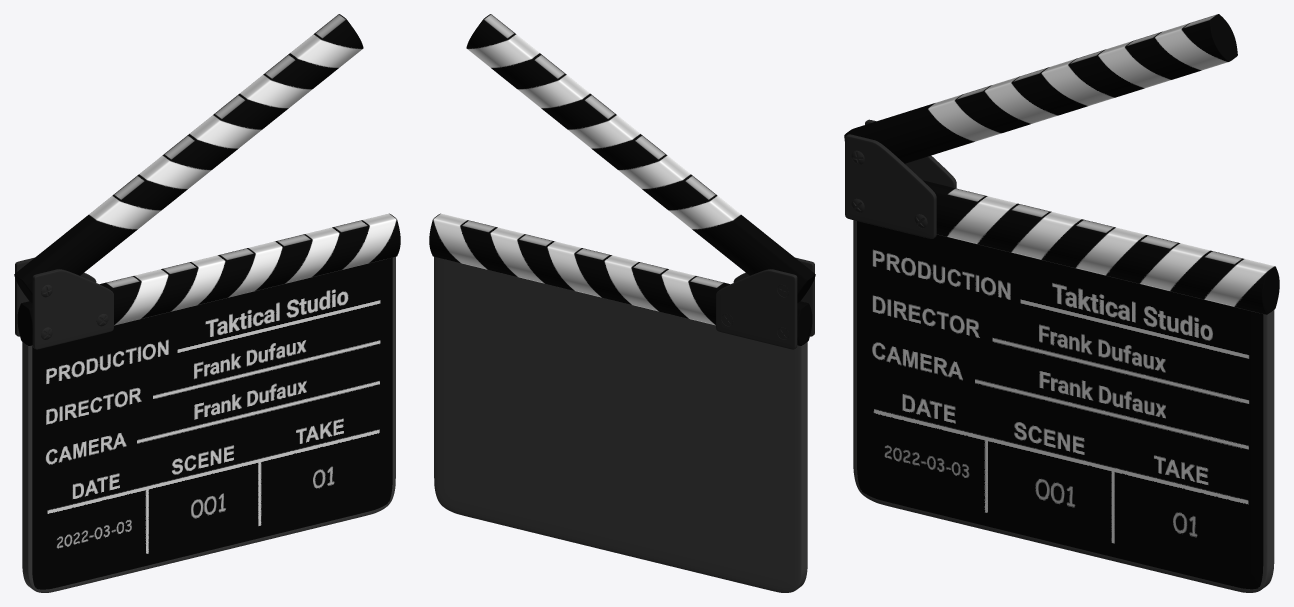
Rendered from clapper2.glb.
3 renders of one model, left to right at view 1: azimuth 30°, elevation 25°; view 2: azimuth 150°, elevation 25°; view 3: azimuth 330°, elevation 25°, orthographic. The views are drawn at different scales.
Parts seen in each view (by area): view 1: clapper, clap; view 2: clapper, clap; view 3: clapper, clap.
Part boxes in pixels (x1,y1,x2,y2): clapper: (15, 213, 400, 592); clap: (14, 14, 363, 302); clapper: (429, 213, 814, 592); clap: (466, 14, 815, 302); clapper: (845, 119, 1279, 592); clap: (844, 14, 1237, 163).
Size of the model in its own units: 20.69 by 26.44 by 2.08.
Materials: 4 (2 with a texture image).
